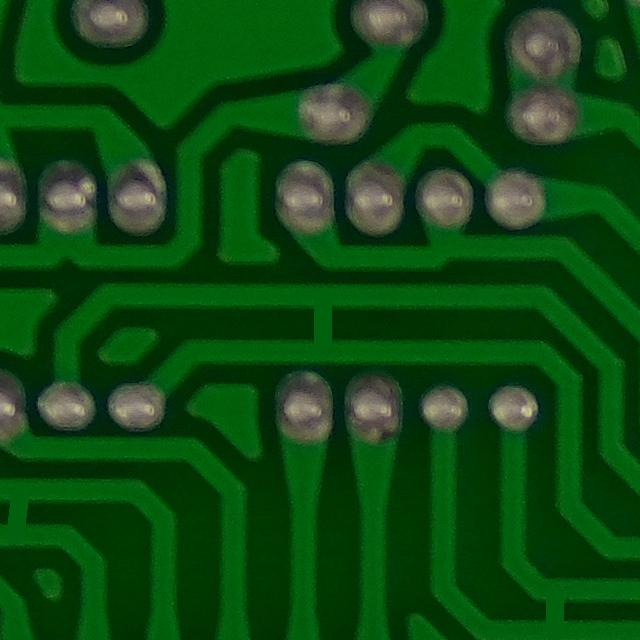short: (269, 271, 371, 369)
